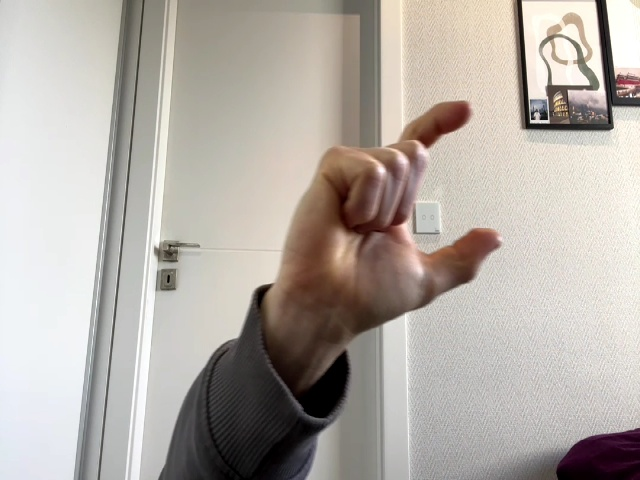C: (280, 101, 502, 332)
